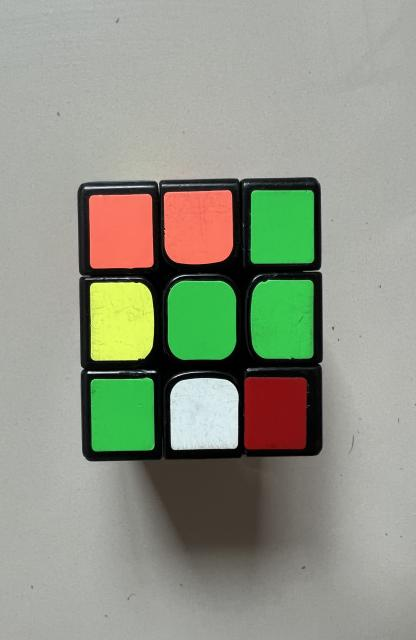Green: (168, 280, 236, 360), (250, 280, 314, 359), (250, 190, 314, 264), (91, 378, 155, 451)
Orange: (164, 190, 233, 264), (89, 194, 154, 269)
Red: (245, 378, 307, 450)
White: (170, 378, 238, 450)
Yellow: (90, 282, 154, 361)
